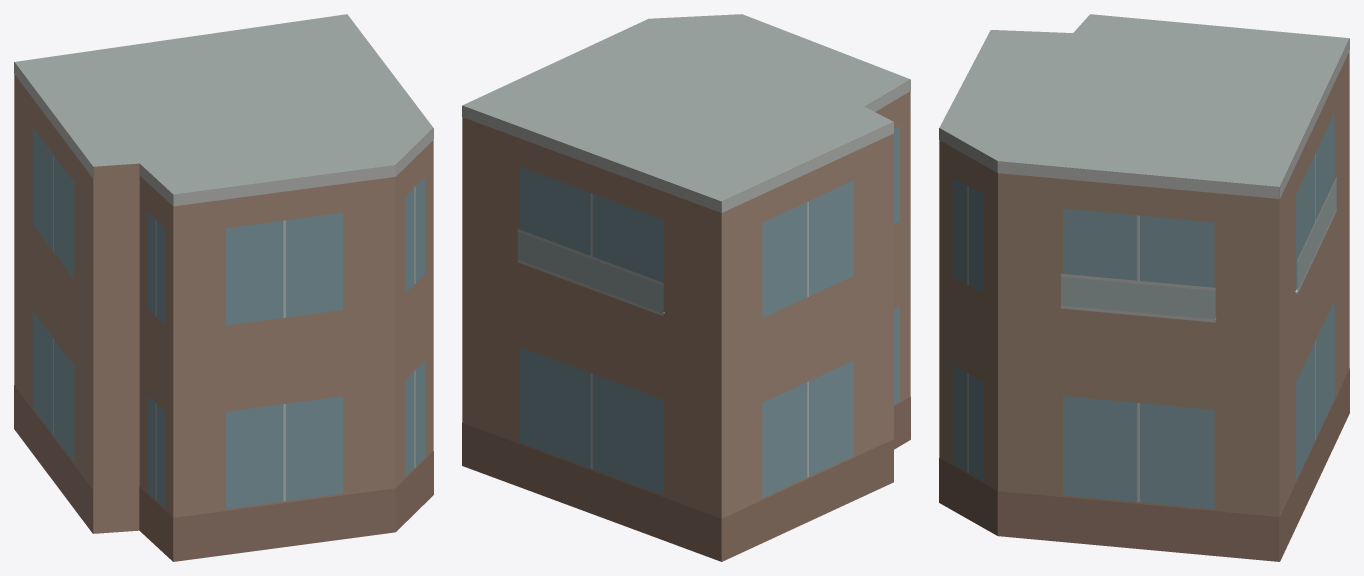
File: survey-upis-32474123.glb
The picture shows the model from 3 angles, left to right: view 1: azimuth 30°, elevation 25°; view 2: azimuth 150°, elevation 25°; view 3: azimuth 270°, elevation 25°; orthographic projection. The views are drawn at different scales.
Parts seen in each view (by area): view 1: survey-upis-32474123.tmp; view 2: survey-upis-32474123.tmp; view 3: survey-upis-32474123.tmp.
Part boxes in pixels (x1,y1,x2,y2): survey-upis-32474123.tmp: [14, 14, 433, 561]; survey-upis-32474123.tmp: [462, 14, 910, 561]; survey-upis-32474123.tmp: [939, 14, 1349, 561].
Bounding box in the file's own units: 7.53 × 7.6 × 7.55.
